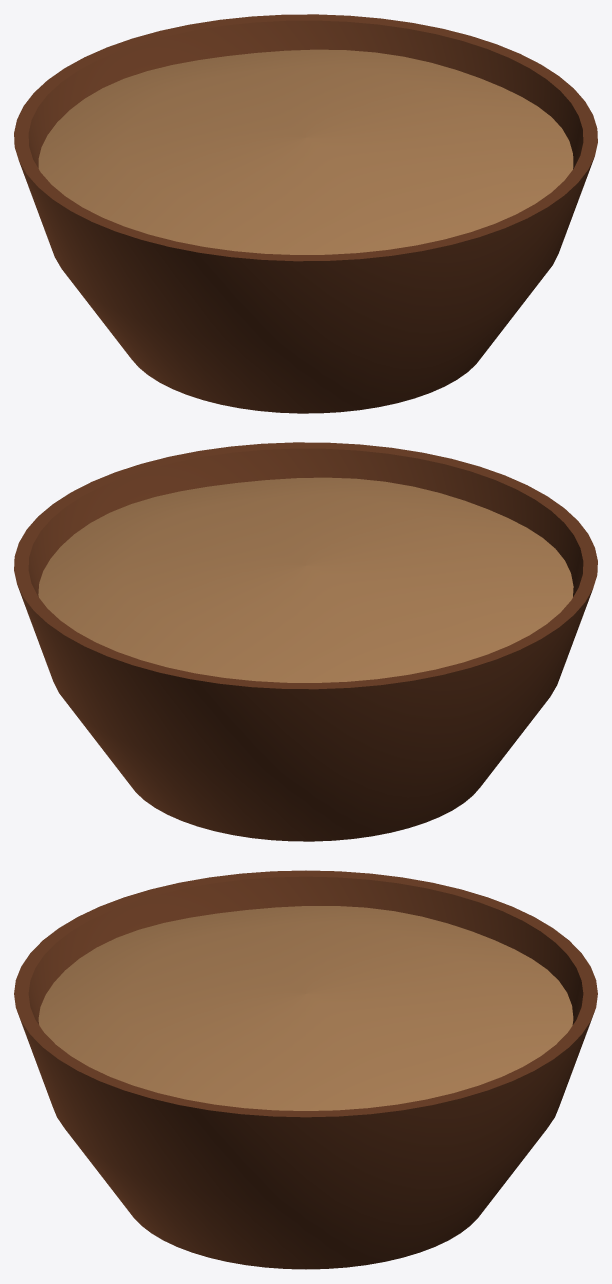
The model's file is cumbuca-baiao.glb.
The picture shows the model from 3 angles, top to bottom: view 1: azimuth 30°, elevation 25°; view 2: azimuth 150°, elevation 25°; view 3: azimuth 270°, elevation 25°; orthographic projection.
Visible parts, largest first — view 1: cumbuca-baiao; view 2: cumbuca-baiao; view 3: cumbuca-baiao.
Boxes of the visible parts, box(x1,y1,x2,y2) form: cumbuca-baiao: box(14, 14, 597, 413); cumbuca-baiao: box(14, 442, 597, 841); cumbuca-baiao: box(14, 870, 597, 1269).
Bounding box in the file's own units: 0.16 × 0.06 × 0.16.
